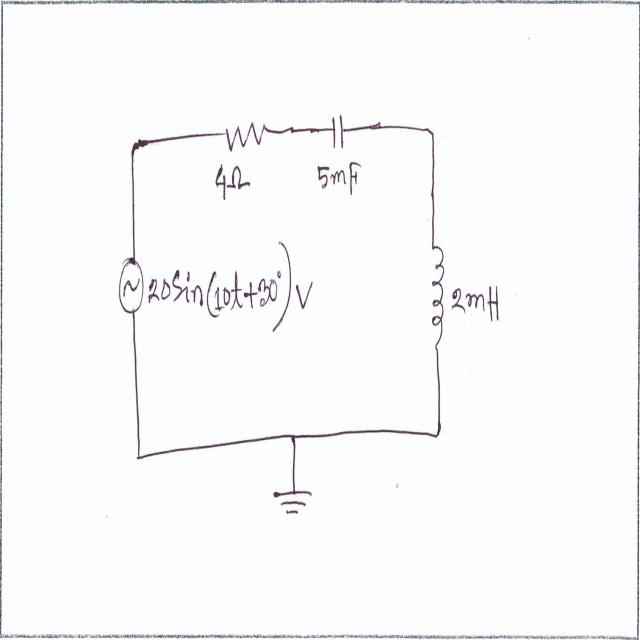ac_current: (117, 252, 144, 321)
capacitor: (328, 110, 348, 159)
ground: (269, 484, 317, 527)
inductor: (428, 240, 444, 354)
resistor: (221, 117, 273, 157)
